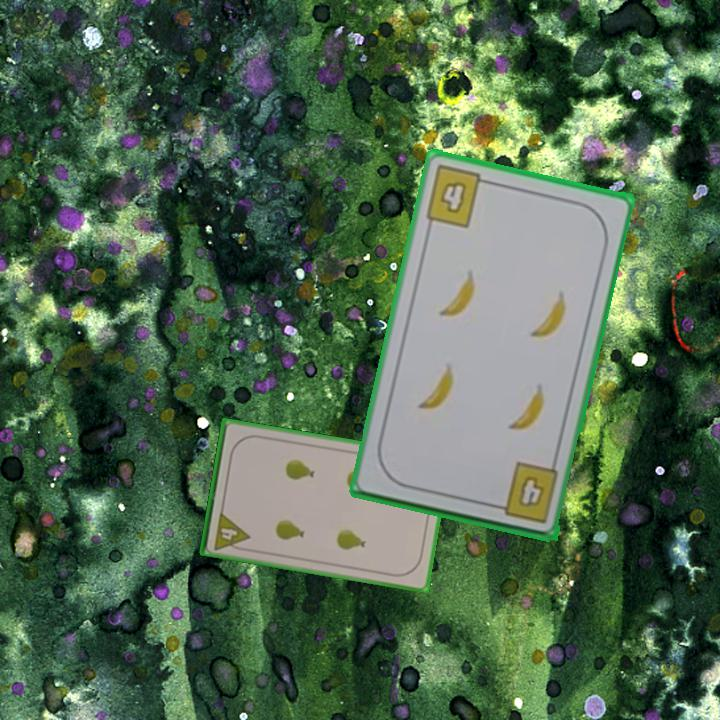4b: (421, 161, 495, 231), (489, 459, 561, 527)
4p: (210, 508, 252, 554)
